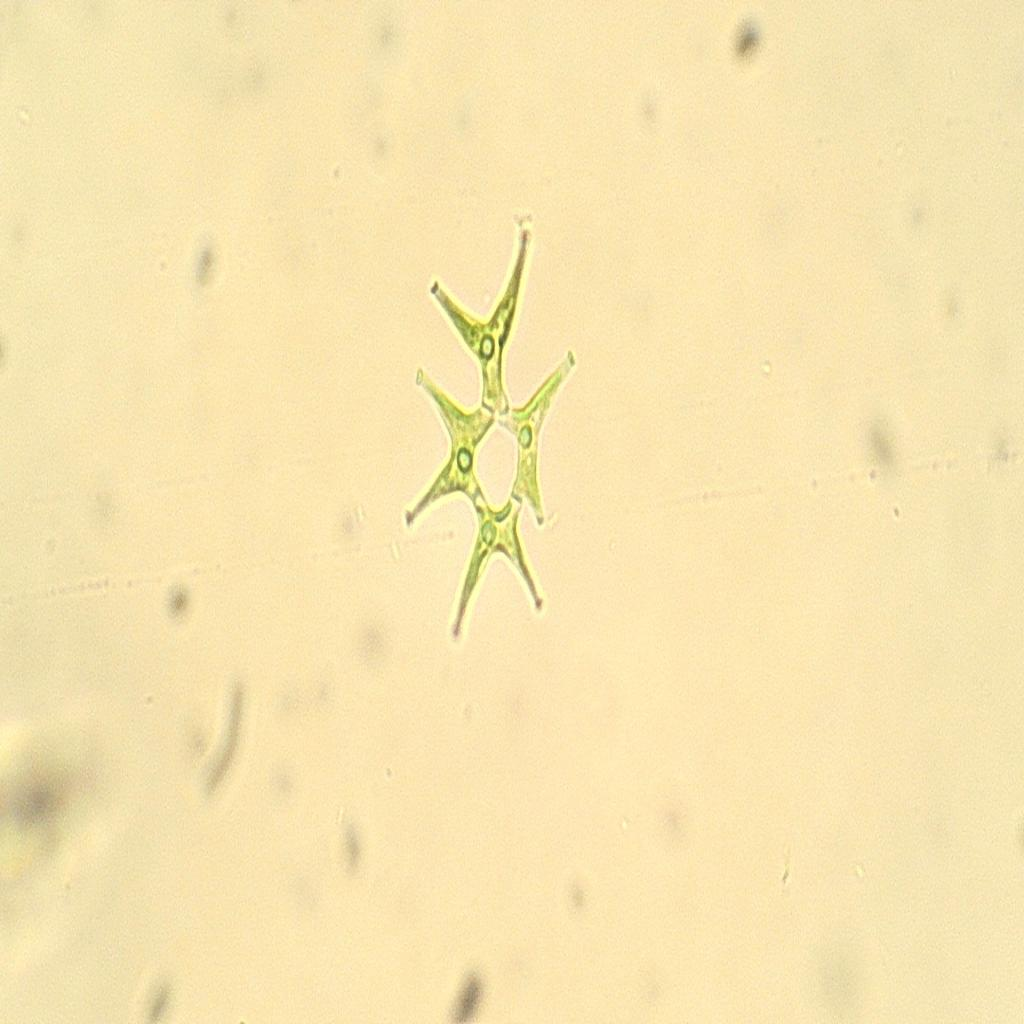Pediastrum_CT: (398, 217, 584, 657)
